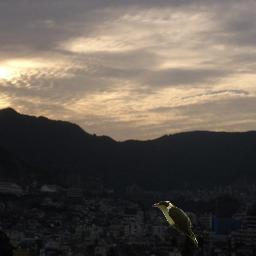Cuckoo: (152, 201, 198, 247)
